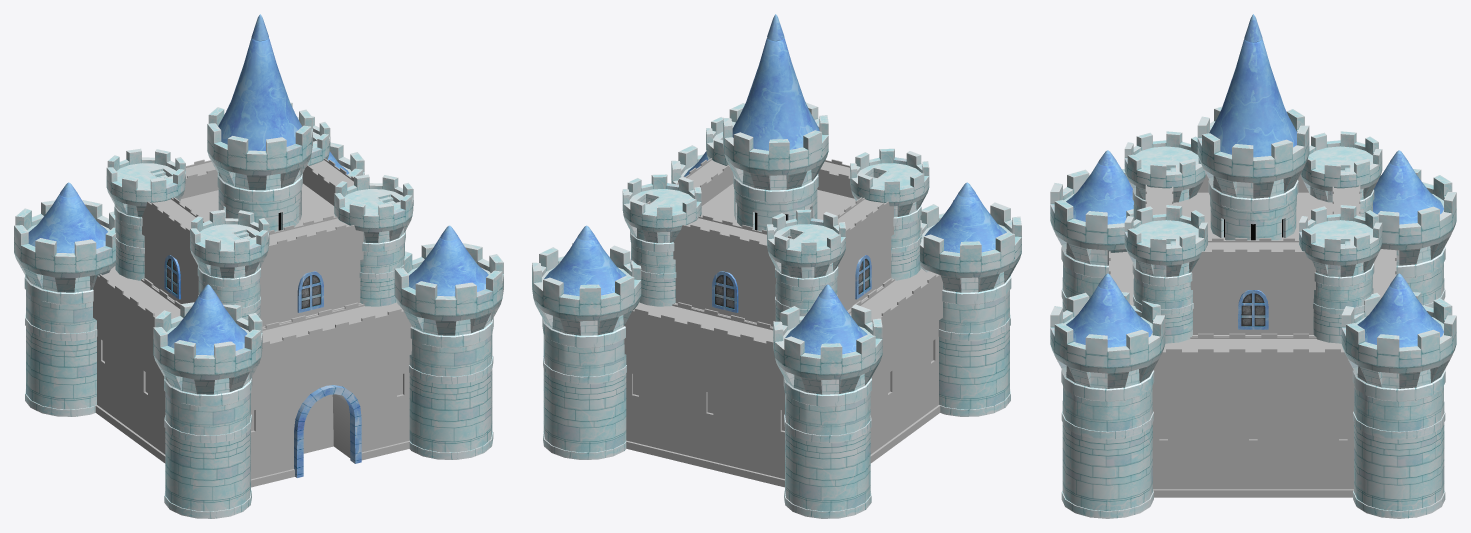
File: sb_obj_outdoor023_IceCastle01_set01.fbx
3 views of the same model, side by side, from view 1: azimuth 30°, elevation 25°; view 2: azimuth 150°, elevation 25°; view 3: azimuth 270°, elevation 25° (orthographic). The views are drawn at different scales.
Visible parts, largest first — view 1: sb_obj_outdoor023_IceCastle01_set01; view 2: sb_obj_outdoor023_IceCastle01_set01; view 3: sb_obj_outdoor023_IceCastle01_set01.
Part boxes in pixels (left/top/right/bottom): sb_obj_outdoor023_IceCastle01_set01: left=14, top=14, right=503, bottom=518; sb_obj_outdoor023_IceCastle01_set01: left=532, top=14, right=1021, bottom=518; sb_obj_outdoor023_IceCastle01_set01: left=1050, top=14, right=1456, bottom=518.
Bounding box in the file's own units: 13.95 × 16.07 × 13.95.
